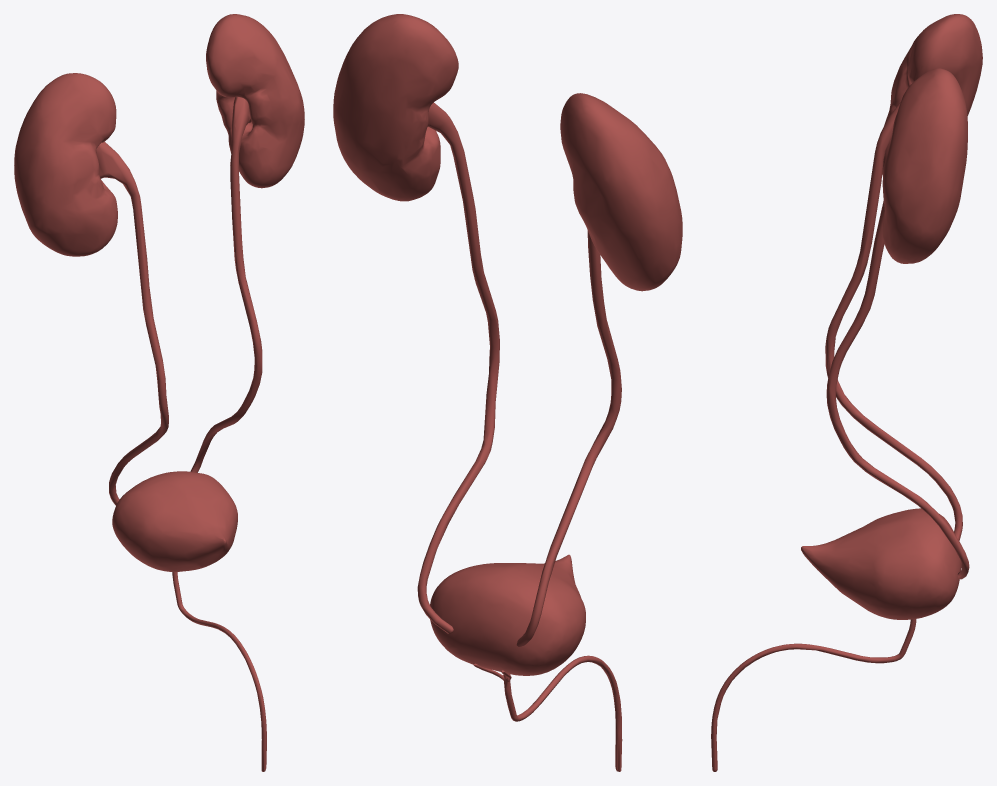
The model's file is urinary.glb.
The picture shows the model from 3 angles, left to right: view 1: azimuth 30°, elevation 25°; view 2: azimuth 150°, elevation 25°; view 3: azimuth 270°, elevation 25°; orthographic projection. The views are drawn at different scales.
Visible parts, largest first — view 1: FMA7204, FMA7205, FMA15900, FMA15571, FMA15572, FMA19667; view 2: FMA7205, FMA7204, FMA15900, FMA15572, FMA15571, FMA19667; view 3: FMA7205, FMA15900, FMA7204, FMA15571, FMA15572, FMA19667.
Part boxes in pixels (x1,y1,x2,y2): FMA7204: [14, 73, 117, 256]; FMA7205: [206, 14, 304, 188]; FMA15900: [112, 471, 237, 571]; FMA15571: [96, 141, 168, 505]; FMA15572: [190, 97, 262, 472]; FMA19667: [172, 572, 266, 771]; FMA7205: [333, 14, 458, 201]; FMA7204: [560, 93, 682, 291]; FMA15900: [430, 554, 585, 675]; FMA15572: [417, 102, 499, 633]; FMA15571: [516, 231, 621, 646]; FMA19667: [473, 655, 622, 771]; FMA7205: [882, 68, 967, 263]; FMA15900: [801, 508, 961, 619]; FMA7204: [882, 14, 982, 176]; FMA15571: [825, 102, 962, 540]; FMA15572: [826, 201, 969, 579]; FMA19667: [711, 619, 916, 771].
Bounding box in the file's own units: 0.1806 × 0.4204 × 0.1402.
